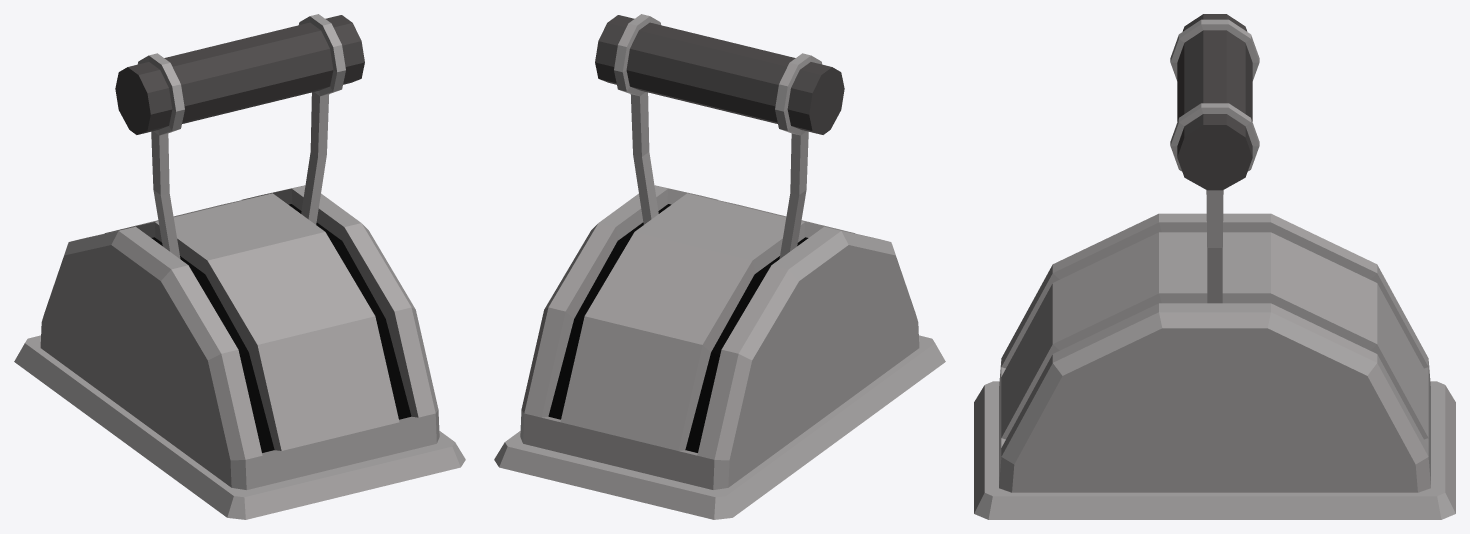
Rendered from MetalFloorLever_10.fbx.
3 views of the same model, side by side, from view 1: azimuth 30°, elevation 25°; view 2: azimuth 150°, elevation 25°; view 3: azimuth 270°, elevation 25° (orthographic). The views are drawn at different scales.
Visible parts, largest first — view 1: MetalFloorLever_10_Casing, MetalFloorLever_10_Handle; view 2: MetalFloorLever_10_Casing, MetalFloorLever_10_Handle; view 3: MetalFloorLever_10_Casing, MetalFloorLever_10_Handle.
Part boxes in pixels (box(x1,y1,x2,y2)): MetalFloorLever_10_Casing: box(14, 185, 465, 519); MetalFloorLever_10_Handle: box(115, 14, 364, 258); MetalFloorLever_10_Casing: box(494, 185, 945, 519); MetalFloorLever_10_Handle: box(595, 14, 844, 258); MetalFloorLever_10_Casing: box(974, 213, 1455, 519); MetalFloorLever_10_Handle: box(1170, 14, 1259, 303).
Size of the model in its own units: 32.63 by 48.51 by 53.71.
